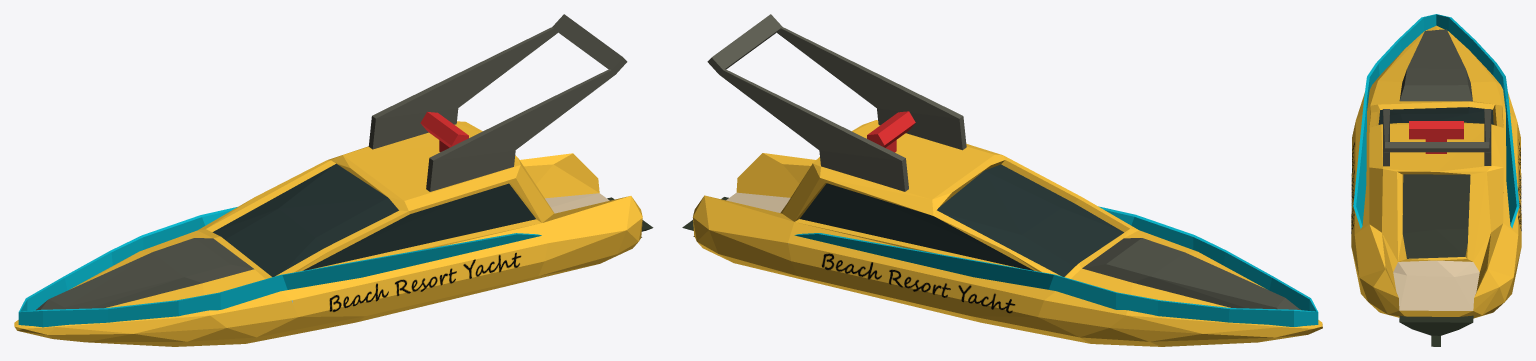
Rendered from Yacht_C.fbx.
3 views of the same model, side by side, from view 1: azimuth 30°, elevation 25°; view 2: azimuth 150°, elevation 25°; view 3: azimuth 270°, elevation 25° (orthographic). The views are drawn at different scales.
Visible parts, largest first — view 1: Yacht_C; view 2: Yacht_C; view 3: Yacht_C.
Boxes of the visible parts, x1=… form: Yacht_C: x1=14, y1=14, x2=653, y2=346; Yacht_C: x1=682, y1=14, x2=1322, y2=346; Yacht_C: x1=1351, y1=14, x2=1521, y2=346.
Size of the model in its own units: 692 by 222 by 185.
